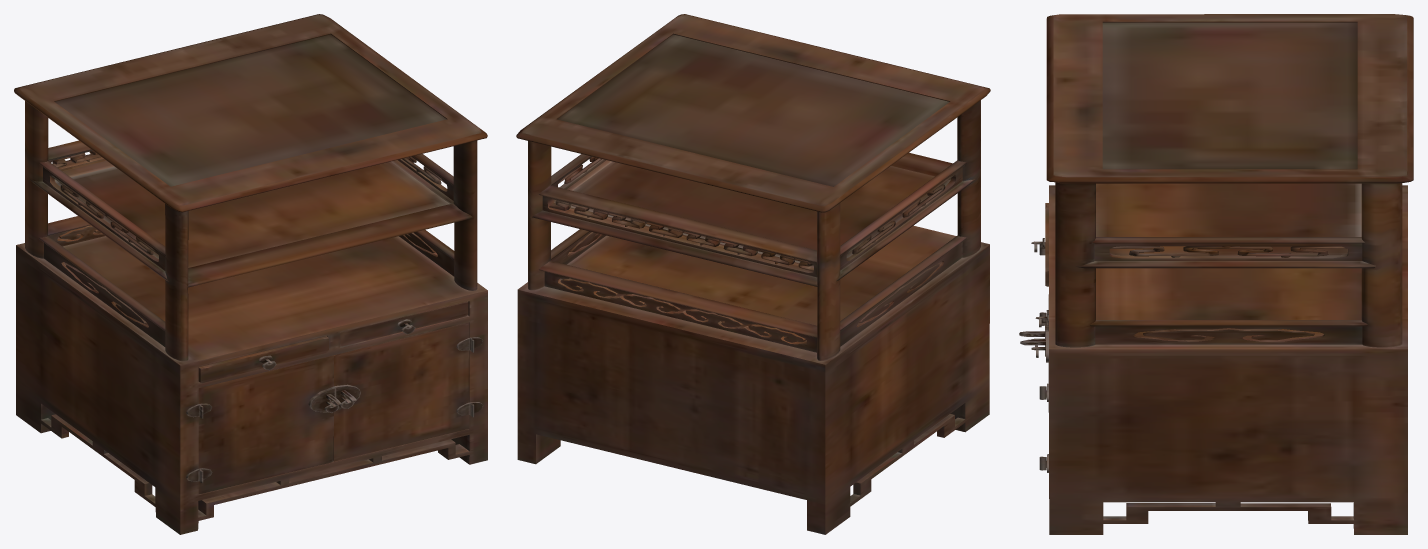
The model's file is ph-chinese-cabinet.glb.
The picture shows the model from 3 angles, left to right: view 1: azimuth 30°, elevation 25°; view 2: azimuth 150°, elevation 25°; view 3: azimuth 270°, elevation 25°; orthographic projection. The views are drawn at different scales.
Visible parts, largest first — view 1: chinese_cabinet; view 2: chinese_cabinet; view 3: chinese_cabinet.
Part boxes in pixels (x1=…): chinese_cabinet: x1=14, y1=14, x2=487, y2=534; chinese_cabinet: x1=516, y1=14, x2=990, y2=534; chinese_cabinet: x1=1019, y1=14, x2=1413, y2=534.
Size of the model in its own units: 1 by 1 by 1.
1 material, 1 textured.
